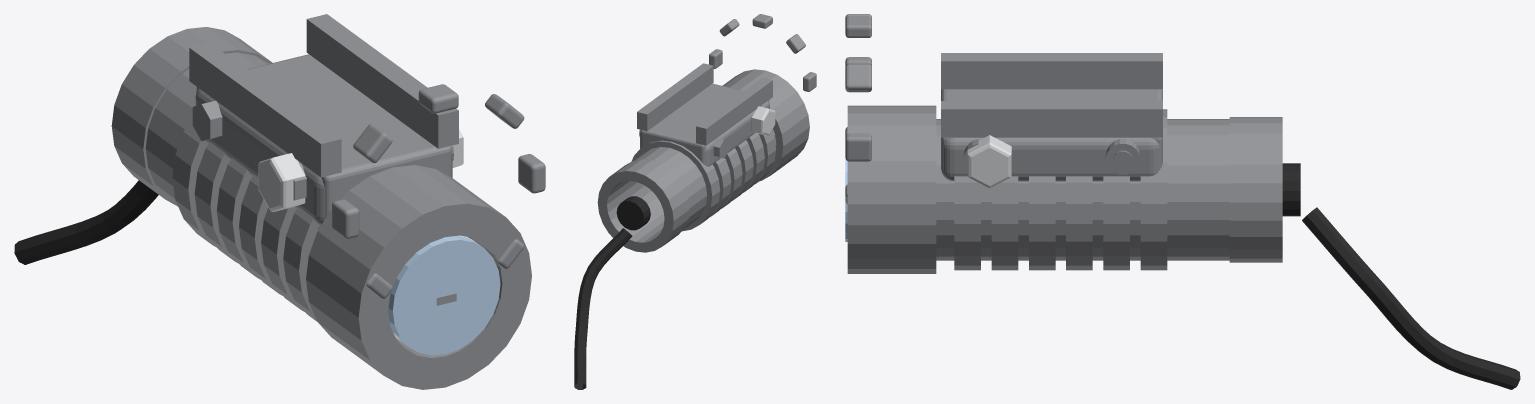
The model's file is mod-service-pistol-underbarrel-33381.glb.
The picture shows the model from 3 angles, left to right: view 1: azimuth 30°, elevation 25°; view 2: azimuth 150°, elevation 25°; view 3: azimuth 270°, elevation 25°; orthographic projection. The views are drawn at different scales.
Bounding box in the file's own units: 2.25 × 4.8 × 7.76.
